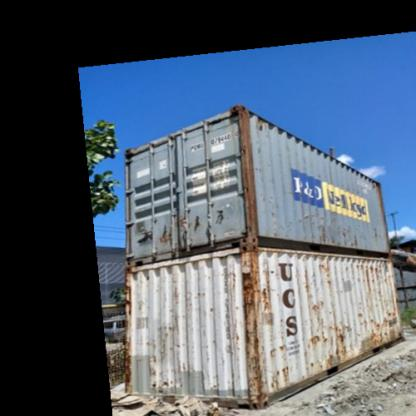Damage: (146, 282, 184, 398), (245, 254, 271, 393), (307, 323, 355, 370), (354, 308, 402, 348), (303, 205, 350, 245), (222, 268, 238, 370), (352, 260, 394, 290), (258, 192, 287, 234), (273, 334, 291, 392), (192, 288, 216, 316), (316, 262, 336, 290), (324, 160, 337, 186), (302, 266, 312, 296), (346, 182, 368, 195), (211, 369, 221, 395), (310, 296, 326, 312), (256, 141, 263, 175), (372, 221, 382, 240), (352, 230, 360, 246)
